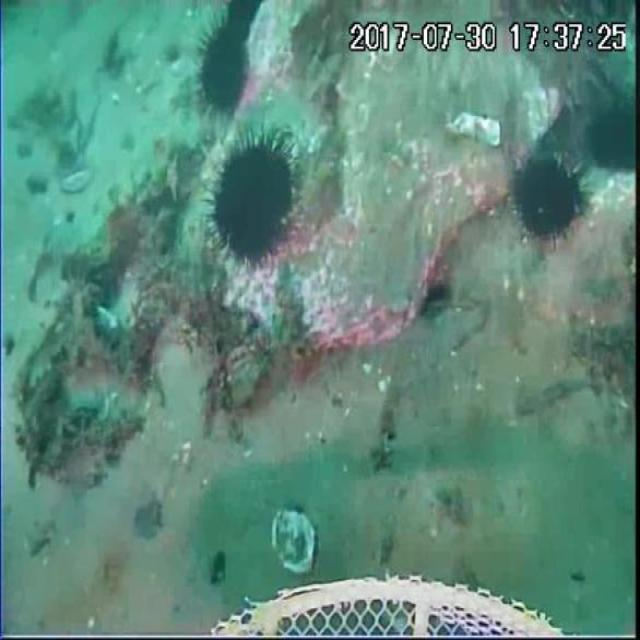echinus: (209, 140, 296, 268), (511, 153, 584, 244), (197, 24, 250, 112), (586, 99, 640, 174), (221, 0, 257, 49)
